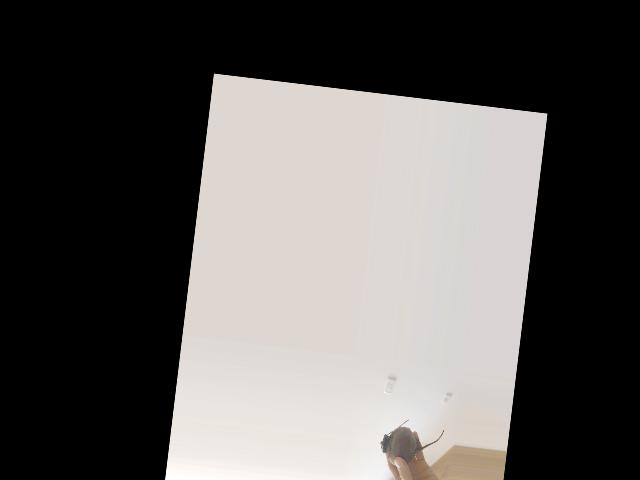beet: (377, 415, 445, 471)
